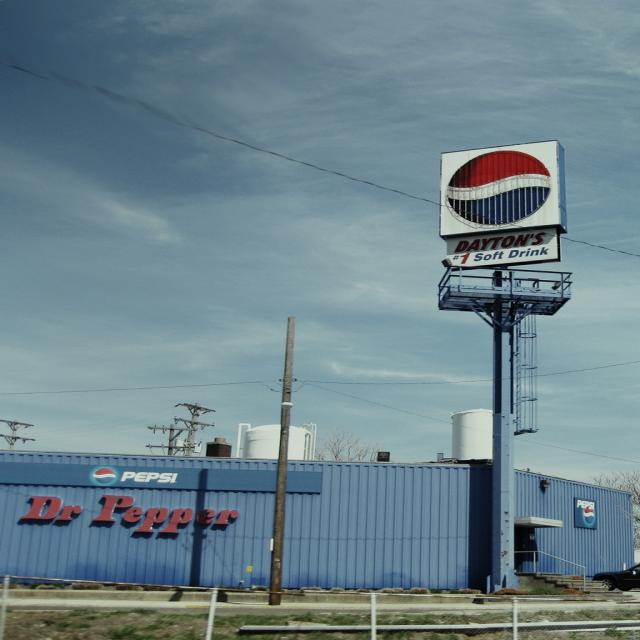pepsi: (439, 149, 558, 226), (91, 468, 115, 486)
